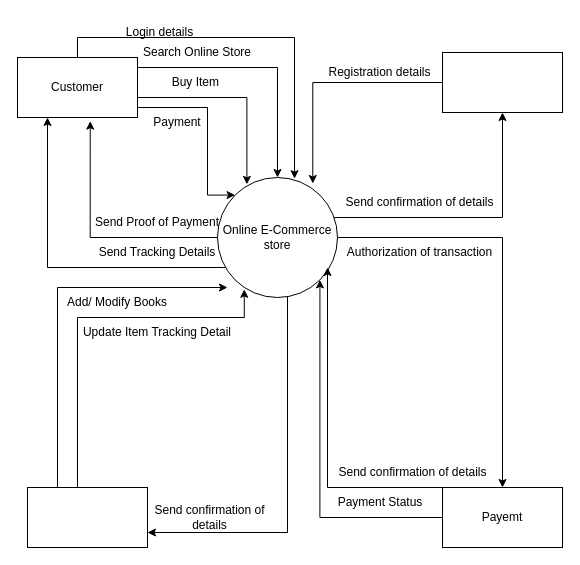
This 580x565 diagram has some shape labels left out. The shapes that lost their labels are listed below. From the top down, each one's centre as x and y in pixels, then its label:
At point 502,82: "New Customer".
At point 87,517: "Administrator".
